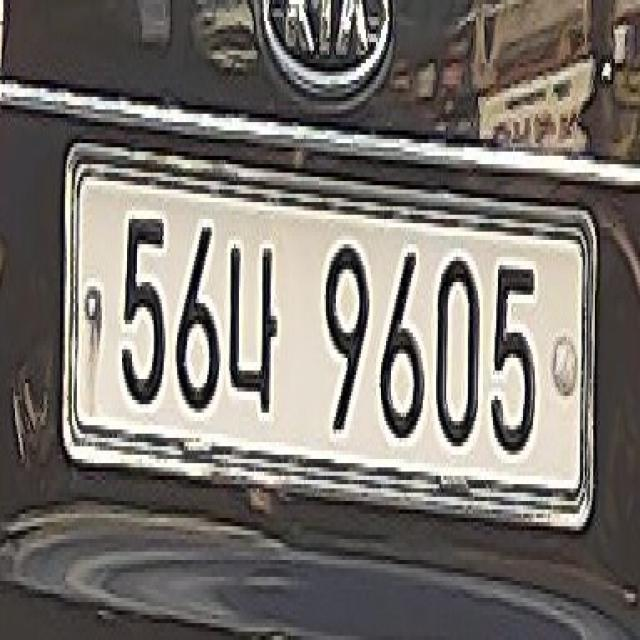0: (431, 235, 481, 450)
5: (490, 251, 540, 458), (120, 194, 168, 408)
6: (172, 204, 222, 413), (376, 241, 426, 443)
9: (318, 230, 372, 450)
license_plate: (61, 106, 611, 546)
na: (228, 222, 280, 416)
